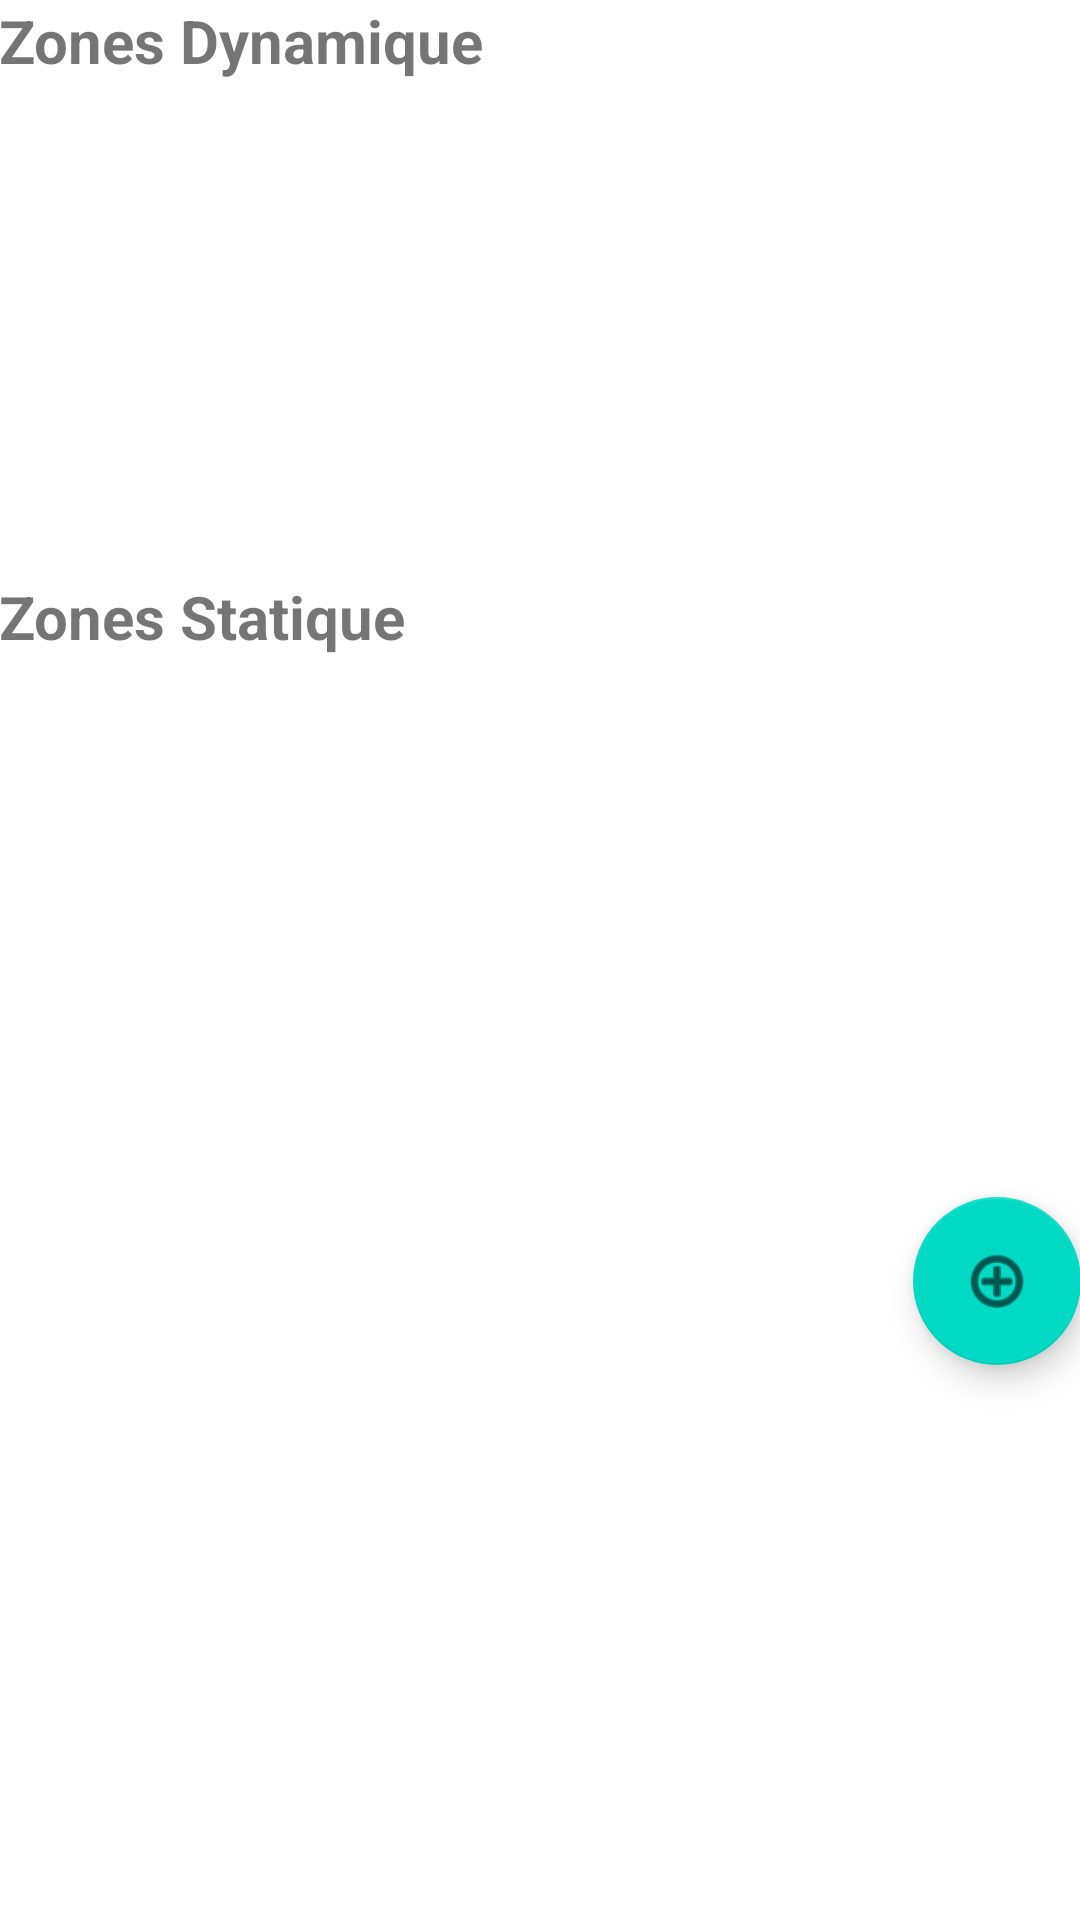

Named icons in this screenshot (1080 × 1920) and their centers, (x=x, y=y):
add: (x=996, y=1281)
